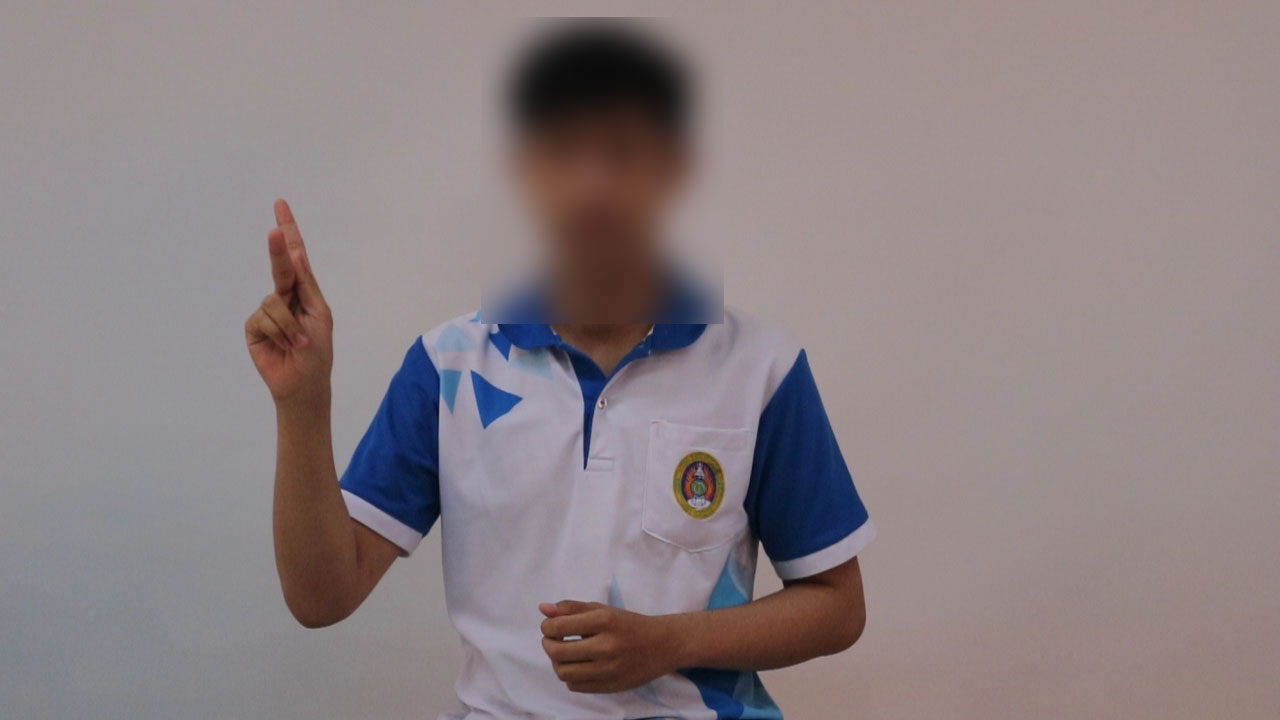ko: (215, 190, 374, 416)
